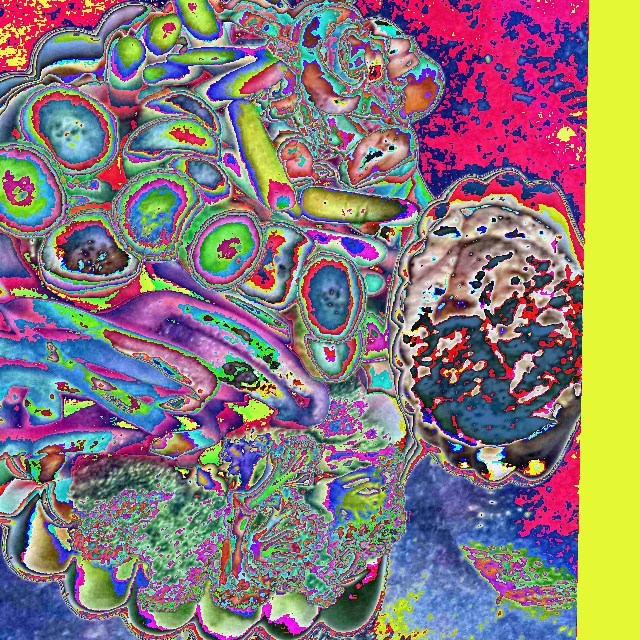background: (0, 0, 445, 613), (185, 207, 583, 448)
